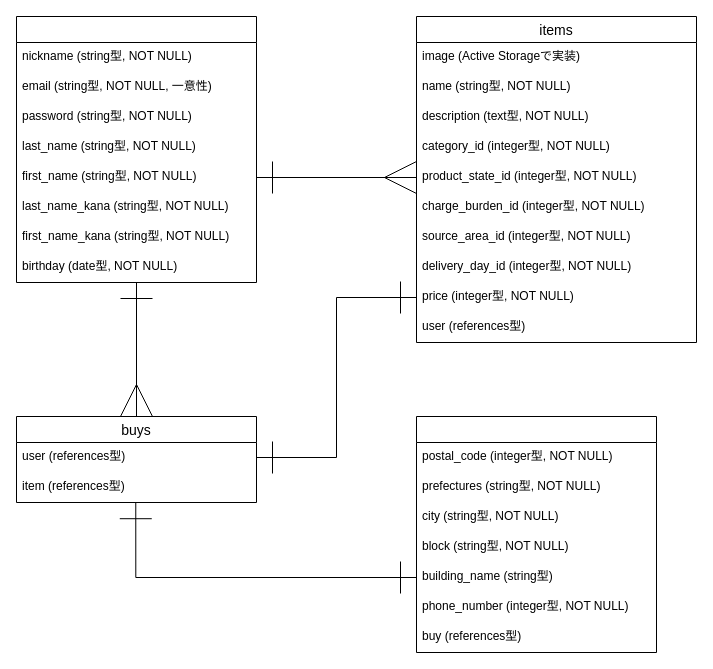
This 713x669 diagram has some shape labels left out. The box of each missing label's shape, as (x1, y1, x2, y2) in pixels:
addreces: (416, 416, 656, 652)
users: (16, 16, 256, 282)
